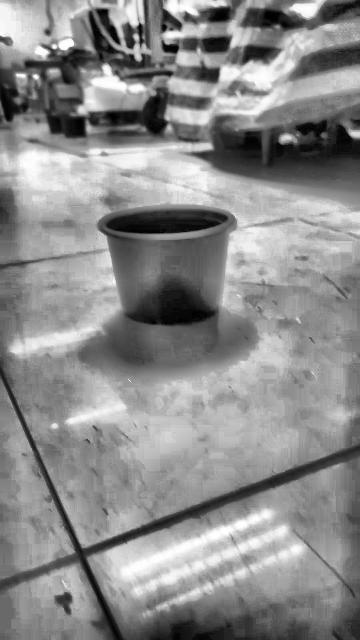pot: (99, 207, 235, 325)
